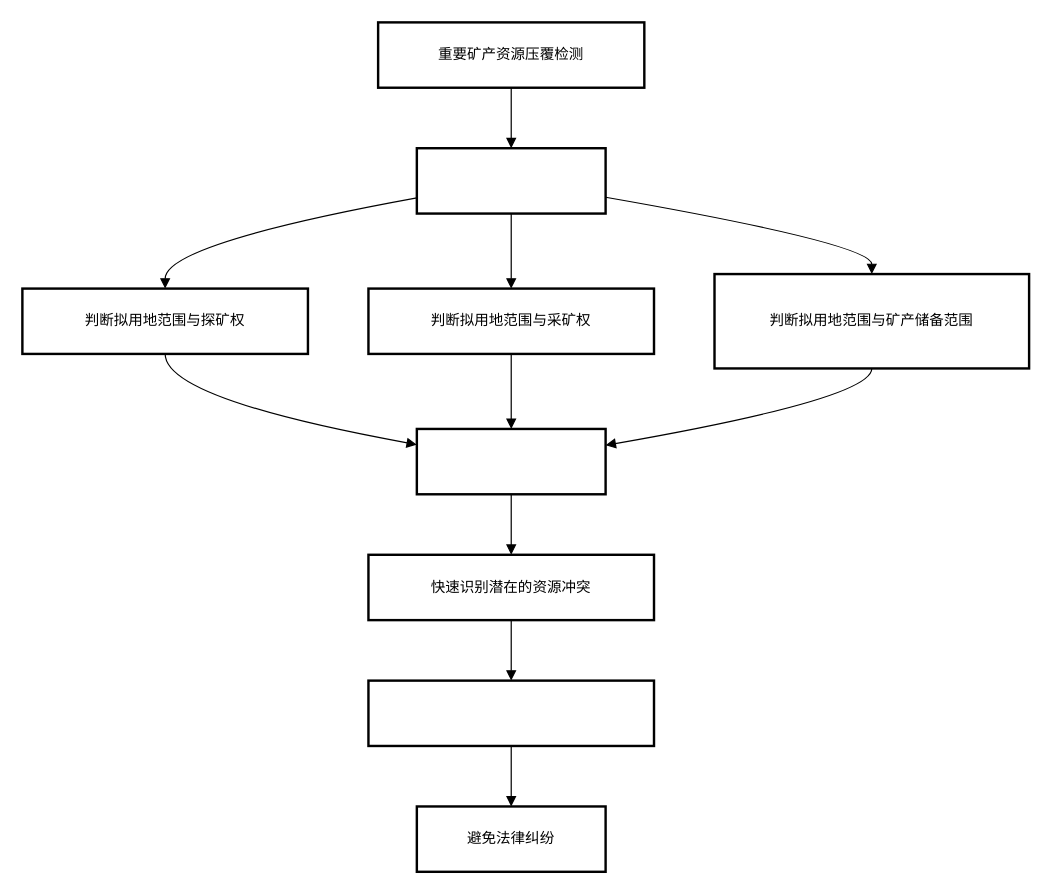
Some shapes in this 1050 by 893 pixel diagram are drawn without their labels. The centre of each missing label's shape, as x and y in pixels:
"存在空间冲突" belongs at [510,461].
"指导后续审批和手续办理" belongs at [511,713].
"空间分析功能" belongs at [510,180].
